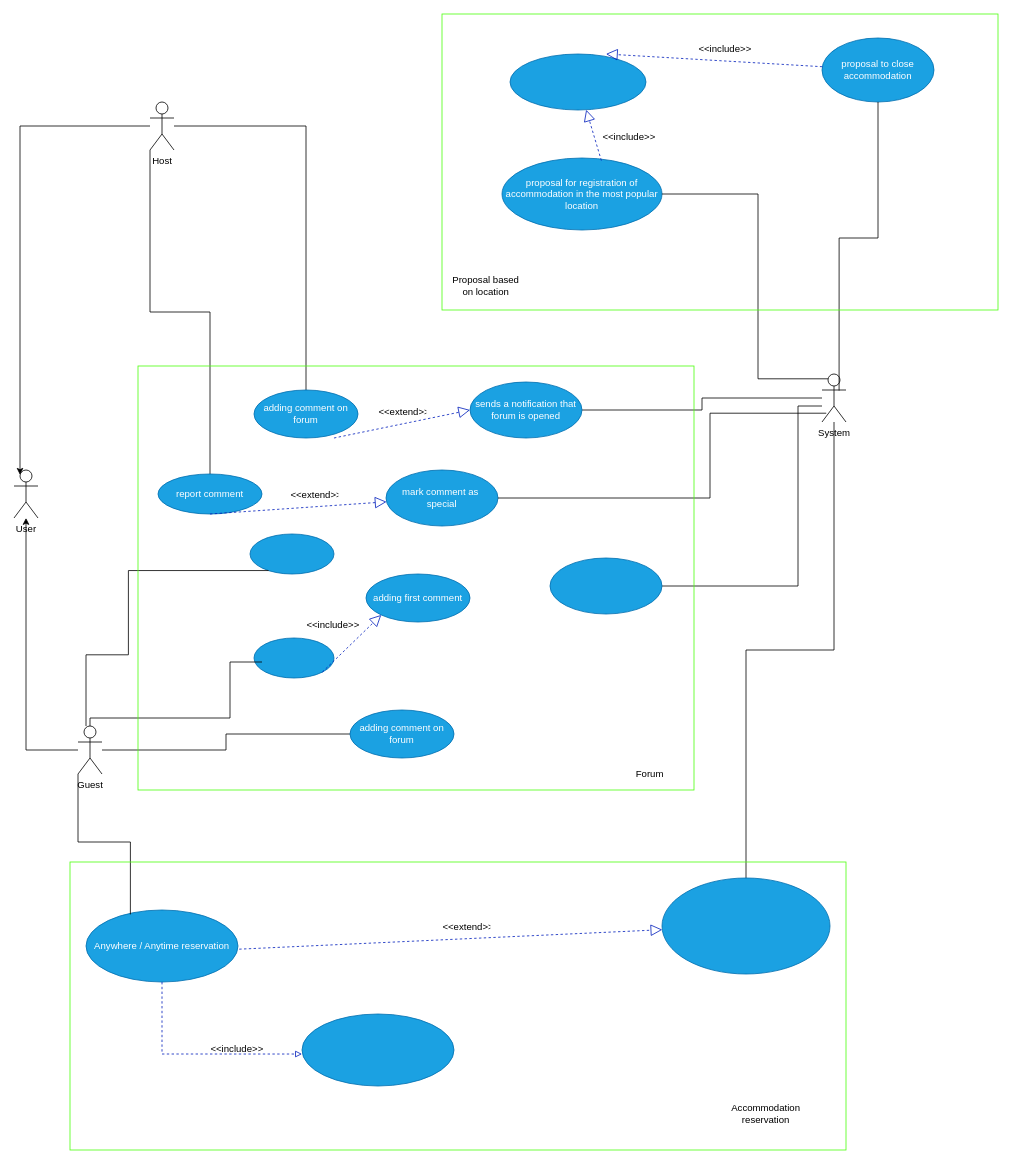
This 1012x1164 diagram has some shape labels left out. The shapes that lost their labels are listed below. From the top down, each one's centre as x and y in pixels, then its label:
the point at 577,81: search for the most popular and least popular locations
the point at 291,553: close forum
the point at 605,585: mark forum as very useful
the point at 293,657: open forum
the point at 745,925: the system finds the appropriate accommodation for the given data
the point at 377,1049: enters wanted parameters
